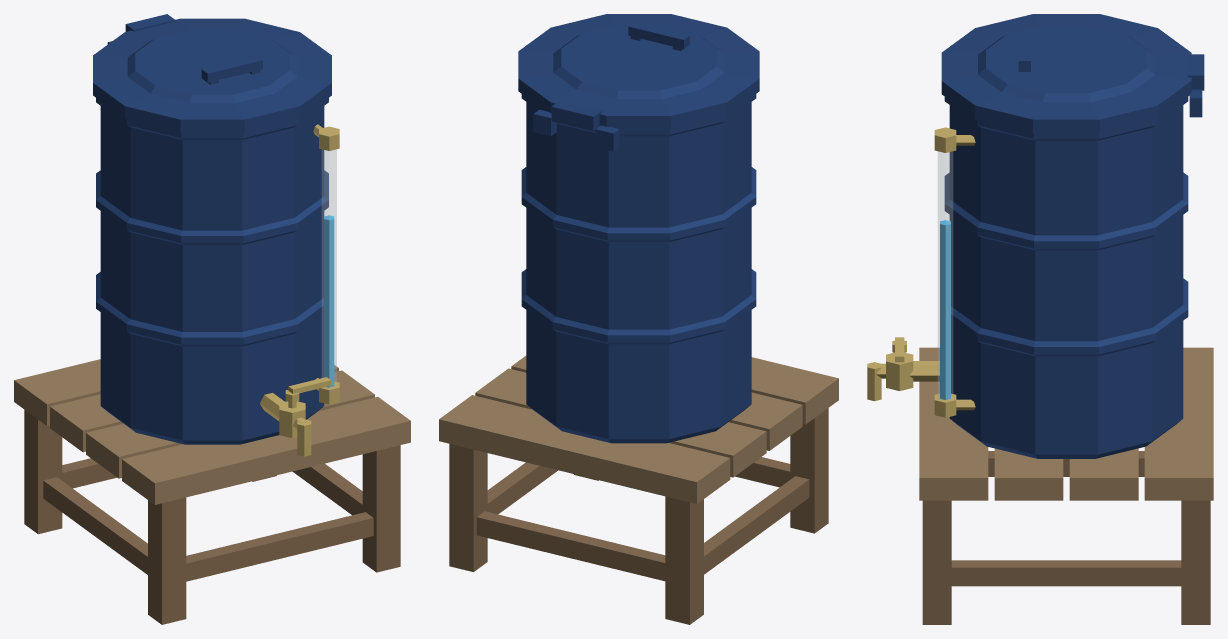
File: CleanStorage.fbx
3 renders of one model, left to right at view 1: azimuth 30°, elevation 25°; view 2: azimuth 150°, elevation 25°; view 3: azimuth 270°, elevation 25°, orthographic. The views are drawn at different scales.
Visible parts, largest first — view 1: Storage_Drum, Storage_Stand, Storage_Lid, Storage_LevelWater, Storage_TapLever; view 2: Storage_Drum, Storage_Stand, Storage_Lid; view 3: Storage_Drum, Storage_Stand, Storage_Lid, Storage_LevelWater.
Part boxes in pixels (x1,y1,x2,y2): Storage_Drum: (96, 41, 339, 456); Storage_Stand: (14, 359, 410, 624); Storage_Lid: (93, 14, 331, 132); Storage_LevelWater: (324, 215, 334, 387); Storage_TapLever: (285, 377, 330, 402); Storage_Drum: (521, 94, 756, 443); Storage_Stand: (439, 356, 838, 624); Storage_Lid: (518, 14, 759, 131); Storage_Drum: (867, 89, 1202, 458); Storage_Stand: (919, 347, 1213, 624); Storage_Lid: (941, 14, 1204, 132); Storage_LevelWater: (940, 220, 950, 399).
Size of the model in its own units: 74 by 137 by 82.98.
